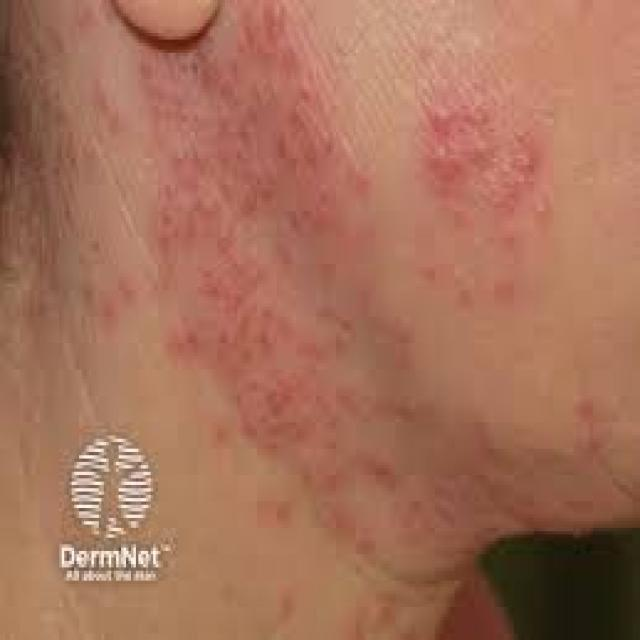Eczema: (126, 38, 364, 443), (420, 83, 550, 261)
